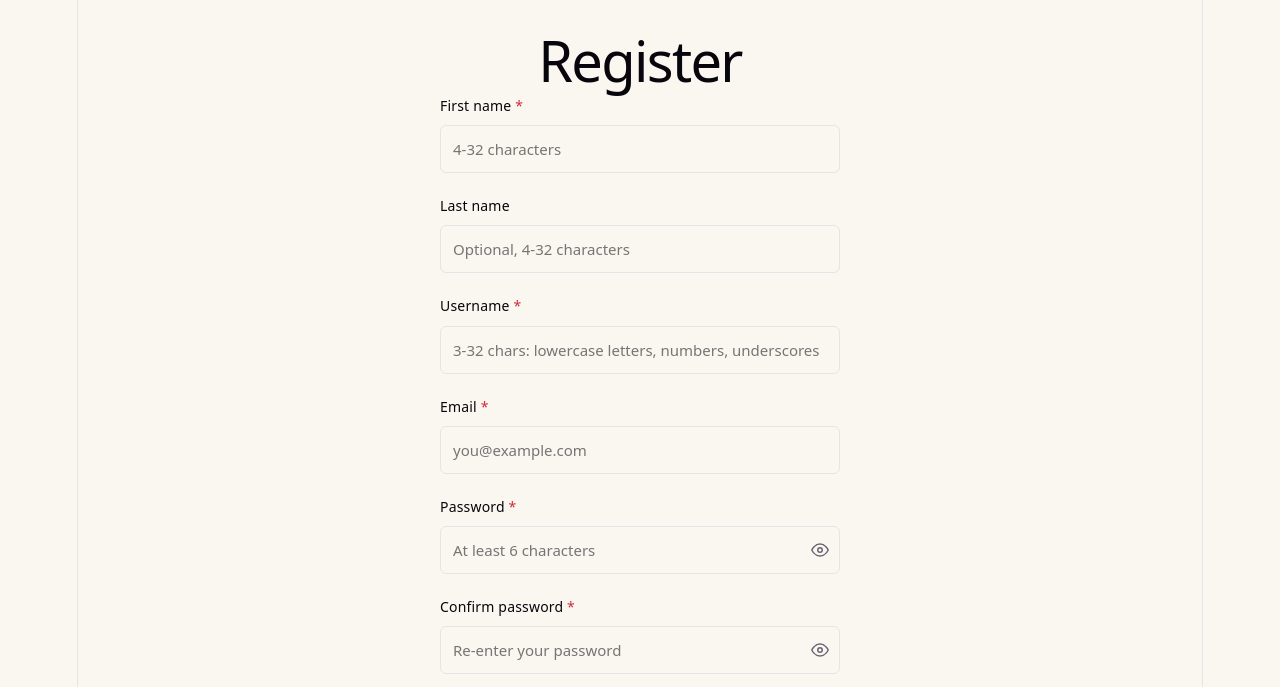
Test: Register › flags mismatched password confirmation
Type "Alex" into the field labelled "First name *" at (640, 149), box top-left (440, 125), bottom-right (840, 173)
Type "alexr" into the field labelled "Username *" at (640, 350), box top-left (440, 326), bottom-right (840, 374)
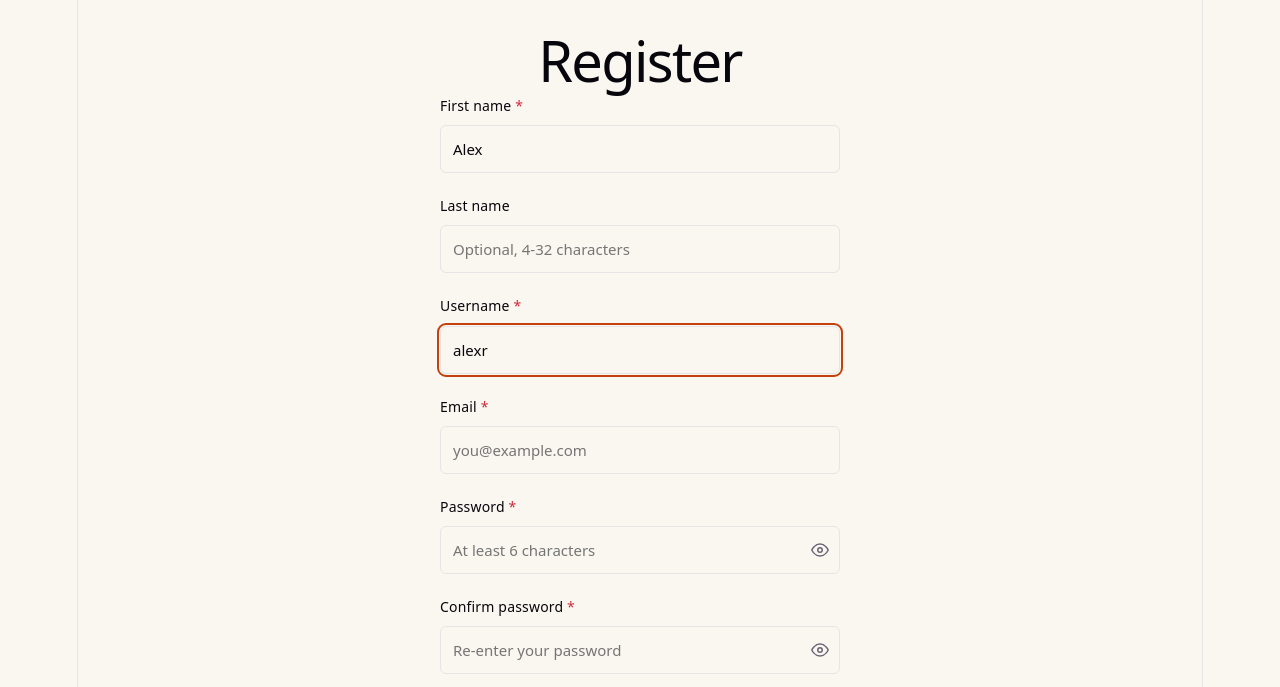
Type "alex@example.com" into the field labelled "Email *" at (640, 450), box top-left (440, 426), bottom-right (840, 474)
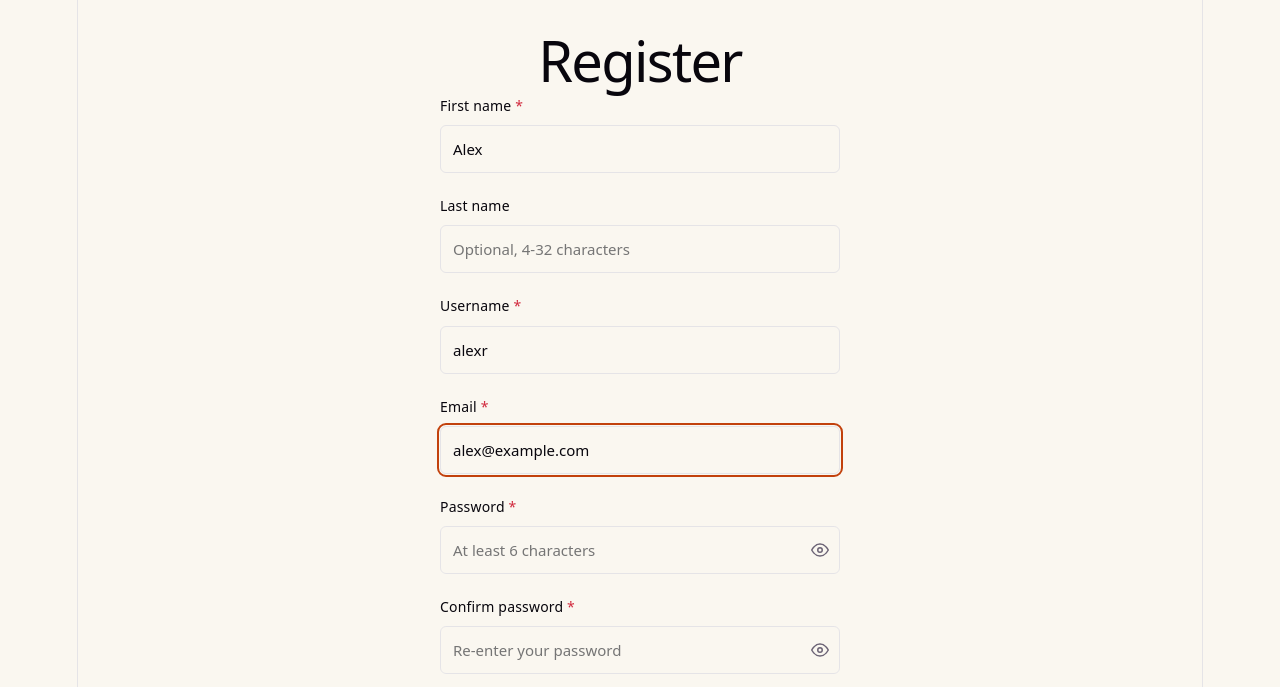
Type "password123" into the password field labelled "Password *" at (640, 550), box top-left (440, 526), bottom-right (840, 574)
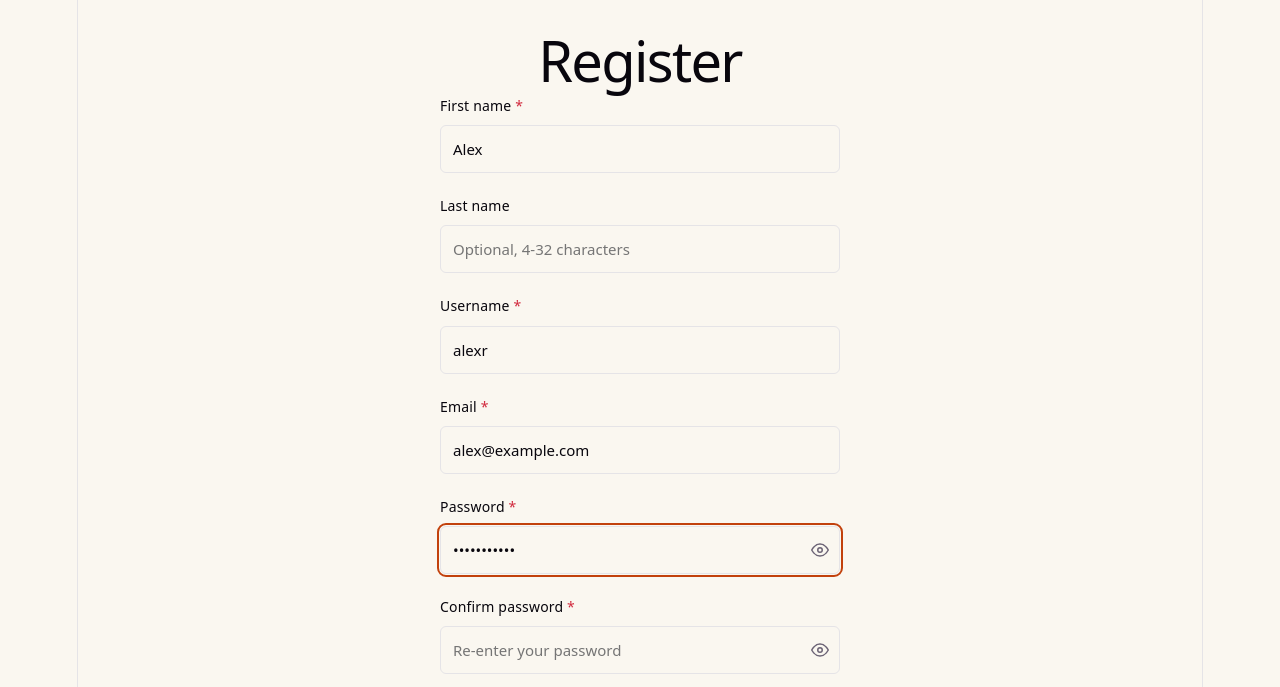
Type "password123" into the password field labelled "Confirm password *" at (640, 650), box top-left (440, 626), bottom-right (840, 674)
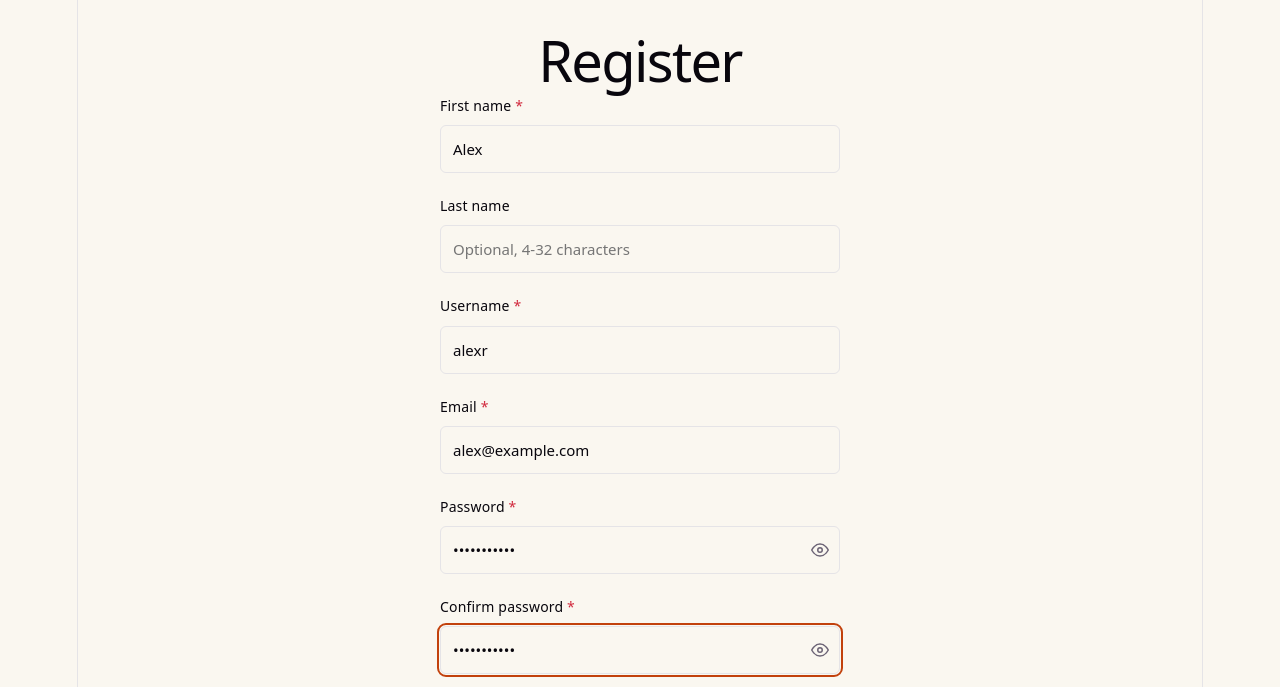
Type "different" into the password field labelled "Confirm password *" at (640, 650), box top-left (440, 626), bottom-right (840, 674)
(page scrolled)
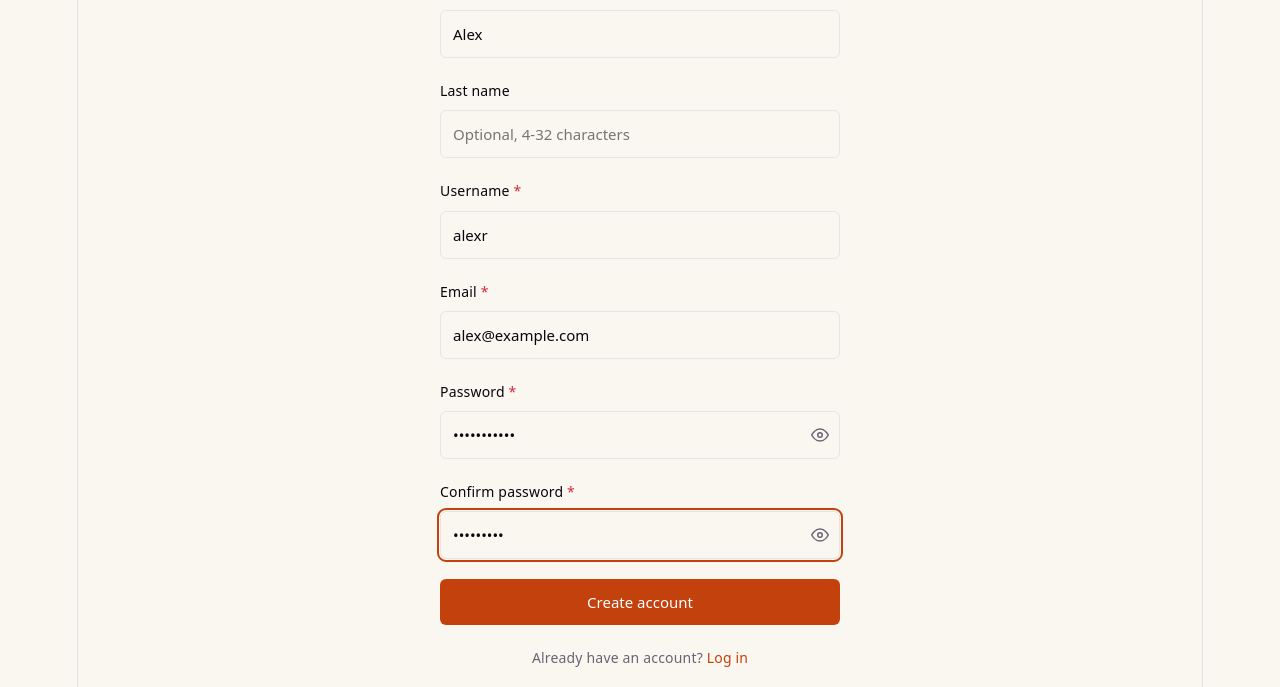
Click the button "Create account" at (640, 602), box top-left (440, 579), bottom-right (840, 625)
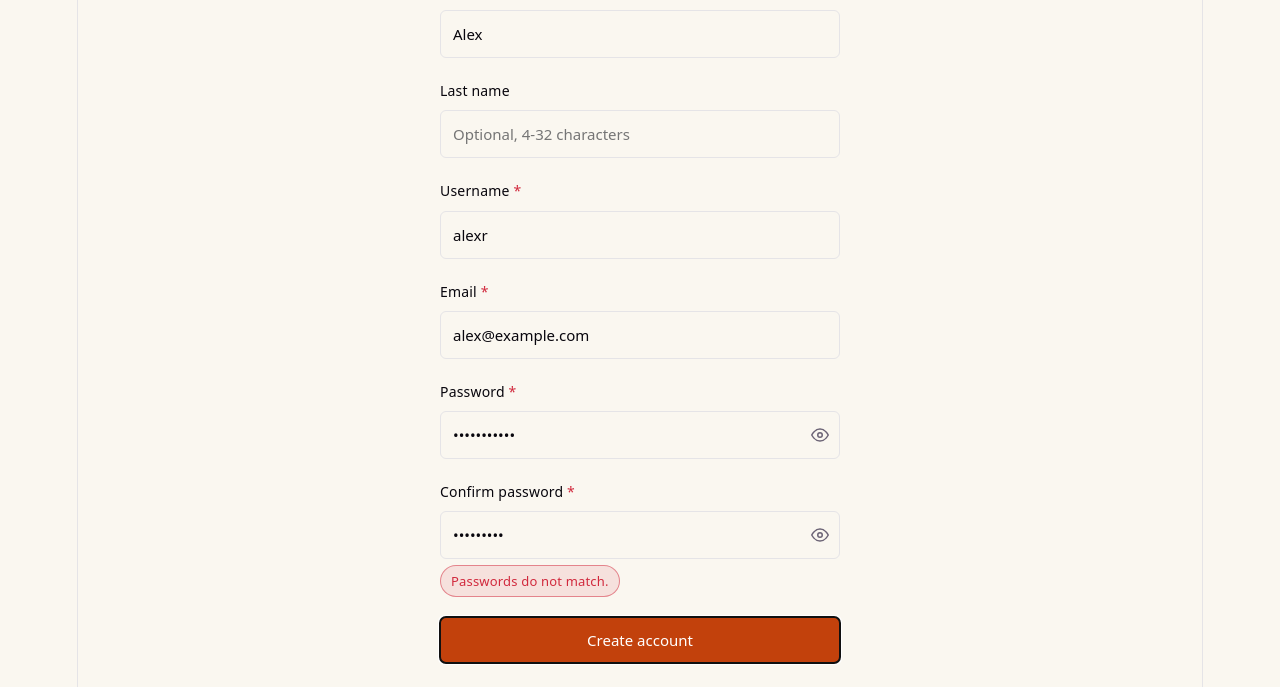
Check: the text "Passwords do not match." is shown, box top-left (440, 565), bottom-right (620, 597)
